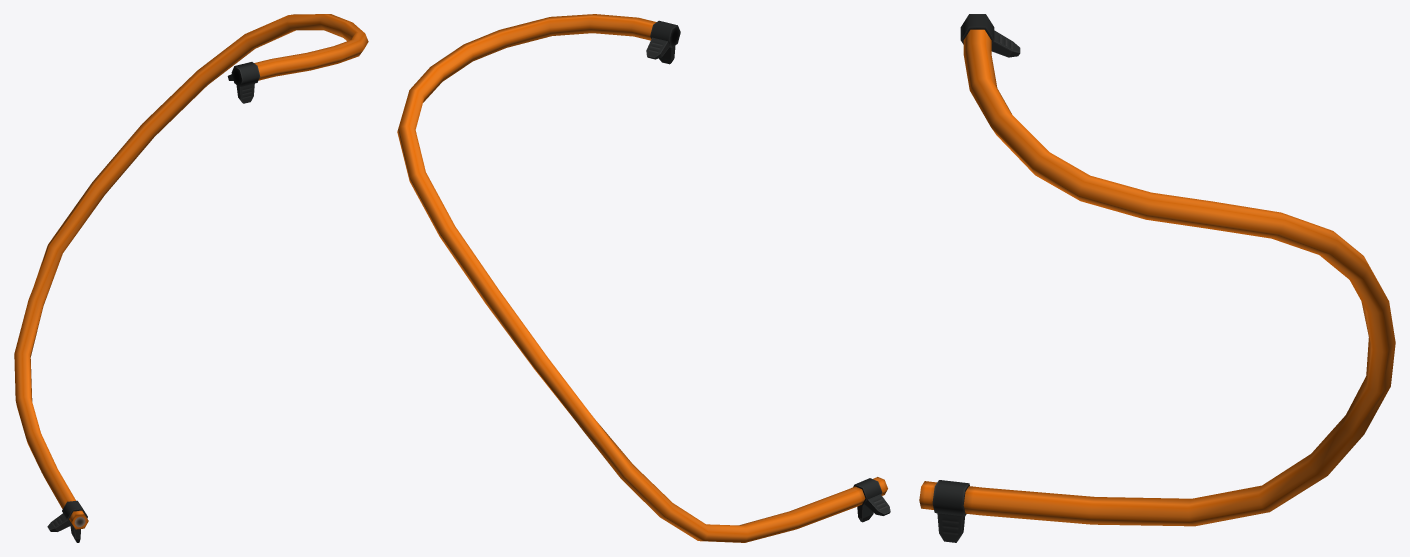
File: jsf_GasRange_10b.fbx
3 views of the same model, side by side, from view 1: azimuth 30°, elevation 25°; view 2: azimuth 150°, elevation 25°; view 3: azimuth 270°, elevation 25° (orthographic). The views are drawn at different scales.
Visible parts, largest first — view 1: GasHose; view 2: GasHose; view 3: GasHose.
Boxes of the visible parts, x1=… form: GasHose: x1=14, y1=14, x2=368, y2=542; GasHose: x1=397, y1=14, x2=890, y2=542; GasHose: x1=919, y1=14, x2=1395, y2=542.
Size of the model in its own units: 41.53 by 45.77 by 30.23.
